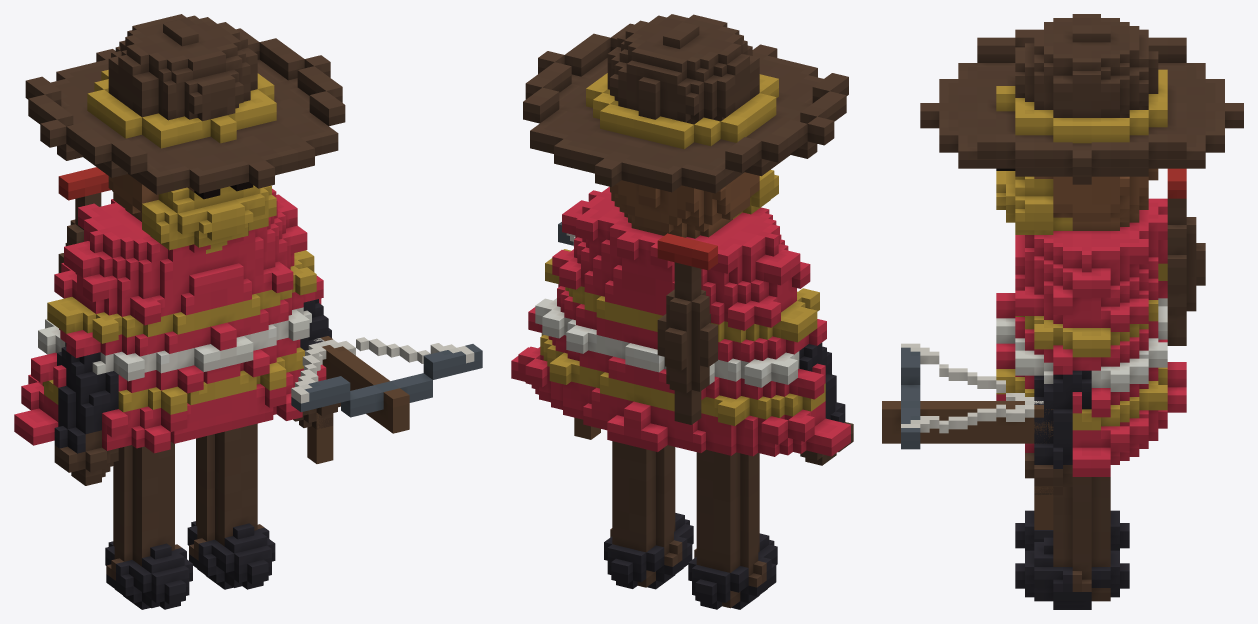
Rendered from u_trappeur__lame.glb.
The picture shows the model from 3 angles, left to right: view 1: azimuth 30°, elevation 25°; view 2: azimuth 150°, elevation 25°; view 3: azimuth 270°, elevation 25°; orthographic projection. The views are drawn at different scales.
Visible parts, largest first — view 1: trappeur_body, trappeur_weapon; view 2: trappeur_body, trappeur_weapon; view 3: trappeur_body, trappeur_weapon.
Boxes of the visible parts, <box> form: trappeur_body: <box>14,14,345,609</box>; trappeur_weapon: <box>291,336,482,463</box>; trappeur_body: <box>511,14,853,609</box>; trappeur_weapon: <box>558,222,600,439</box>; trappeur_body: <box>920,14,1243,609</box>; trappeur_weapon: <box>882,343,1053,529</box>.
Bounding box in the file's own units: 1.1 × 1.6 × 0.95.
